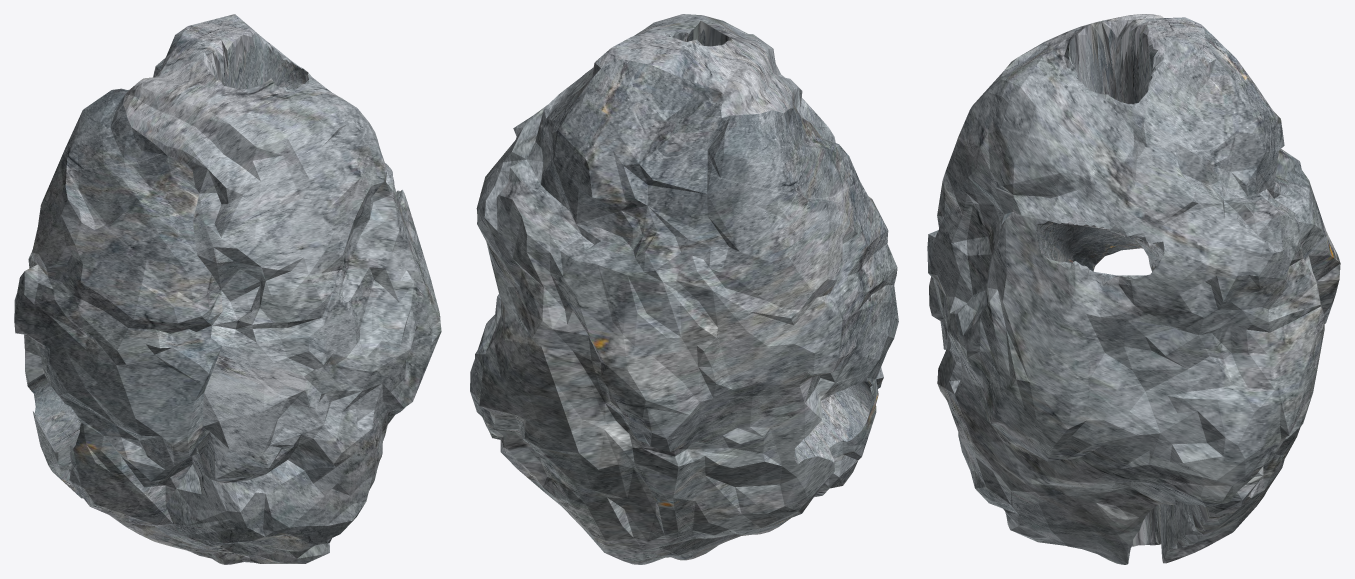
File: asteroid_with_internal_tunnel_system.glb
The picture shows the model from 3 angles, left to right: view 1: azimuth 30°, elevation 25°; view 2: azimuth 150°, elevation 25°; view 3: azimuth 270°, elevation 25°; orthographic projection. The views are drawn at different scales.
Visible parts, largest first — view 1: S_Rock_01; view 2: S_Rock_01; view 3: S_Rock_01.
Boxes of the visible parts, left/top/right/bottom form: S_Rock_01: left=14, top=14, right=441, bottom=564; S_Rock_01: left=470, top=14, right=898, bottom=564; S_Rock_01: left=927, top=14, right=1340, bottom=564.
Bounding box in the file's own units: 0.3489 × 0.4863 × 0.3492.
Materials: 1 (1 with a texture image).
